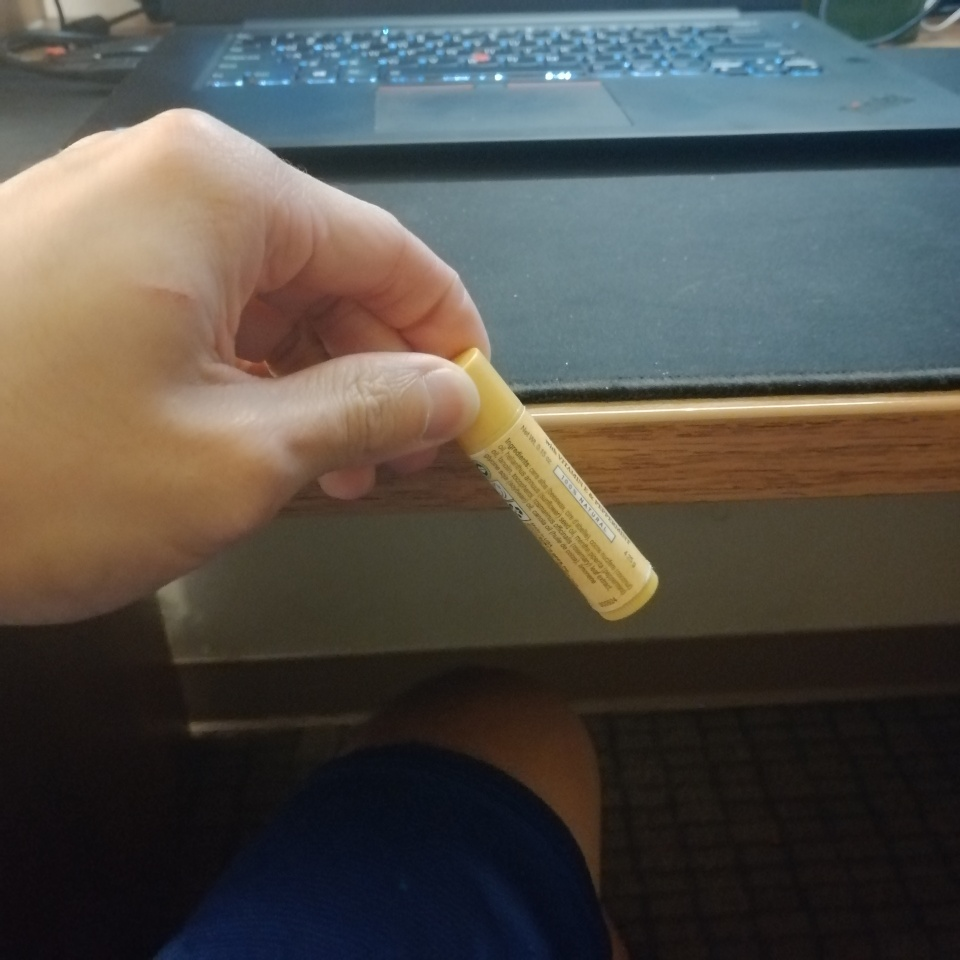chapstick: (452, 347, 661, 626)
